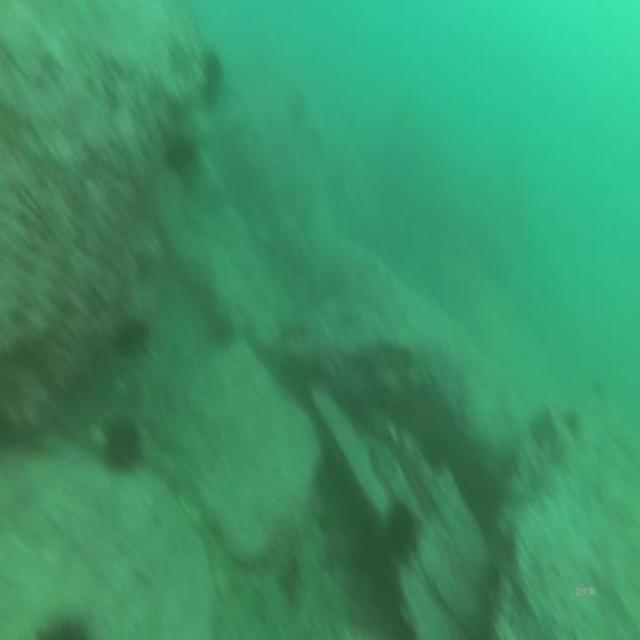echinus: (382, 490, 424, 569), (98, 411, 144, 477), (28, 602, 97, 640), (198, 41, 226, 109), (113, 311, 150, 359), (162, 131, 196, 179)
